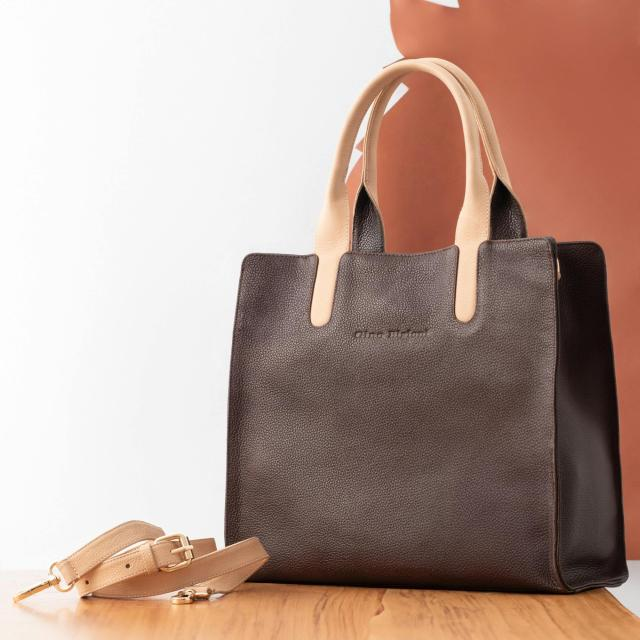bolsa: (220, 54, 630, 590)
